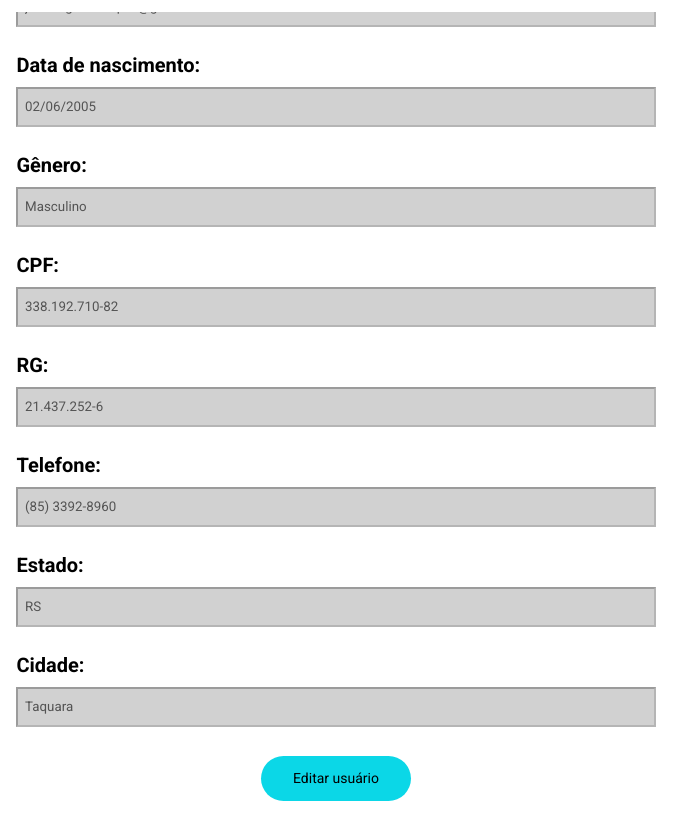
Test: Profile › Open and close edit form
The width and height of the screenshot is (673, 818).
(page scrolled)
Click the button "Editar usuário": (336, 778) left=261, top=756, right=411, bottom=800
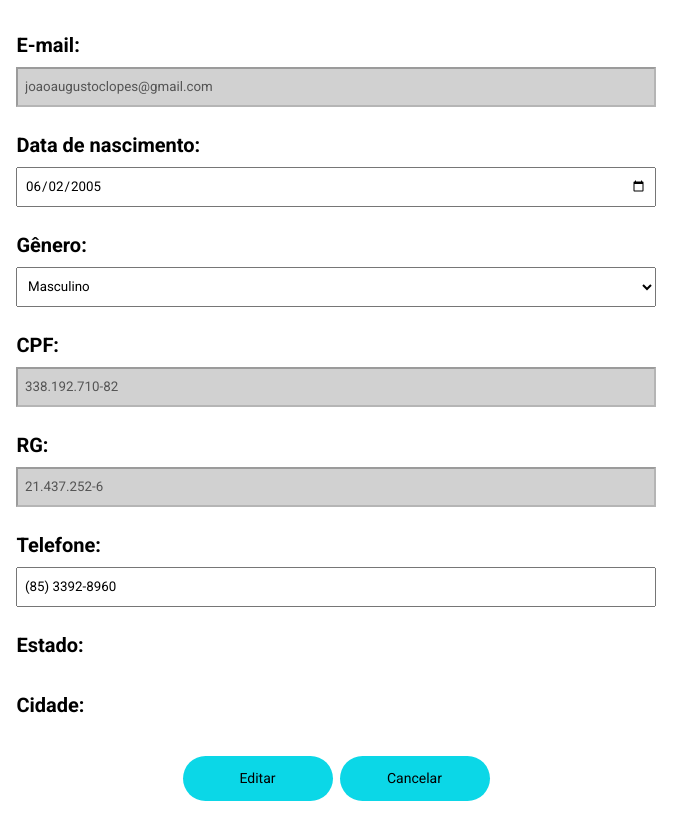
Check: the date field with test id "birthday" is shown, box left=16, top=166, right=656, bottom=206
Check: the dropdown with test id "gender" is shown, box left=16, top=266, right=656, bottom=306
Check: the field with test id "phone" is shown, box left=16, top=566, right=656, bottom=606
Click the button "Cancelar": (414, 778) left=340, top=756, right=490, bottom=800
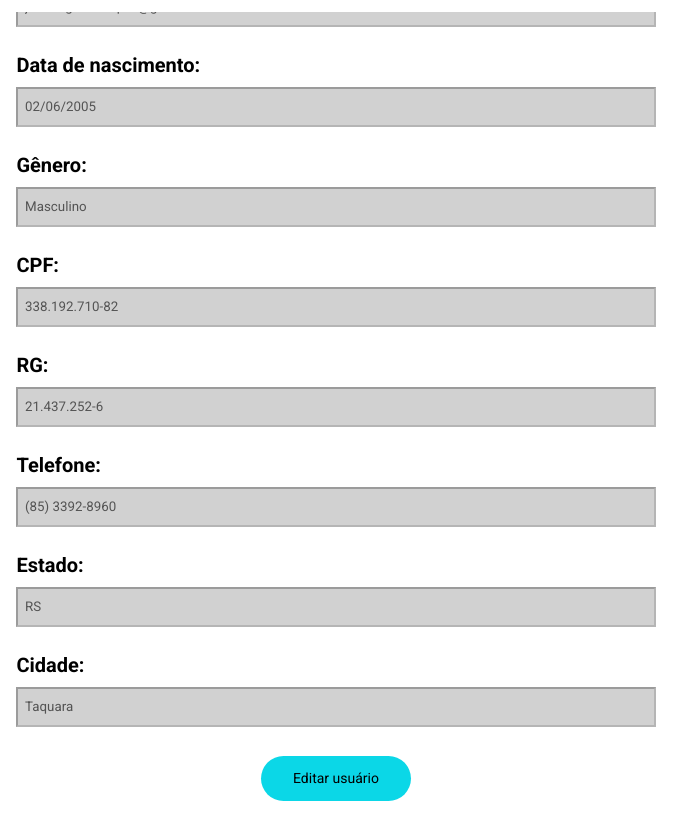
Check: the field with test id "birthdayDisabled" is shown, box left=16, top=86, right=656, bottom=126
Check: the field with test id "genderDisabled" is shown, box left=16, top=186, right=656, bottom=226
Check: the field with test id "phoneDisabled" is shown, box left=16, top=486, right=656, bottom=526
